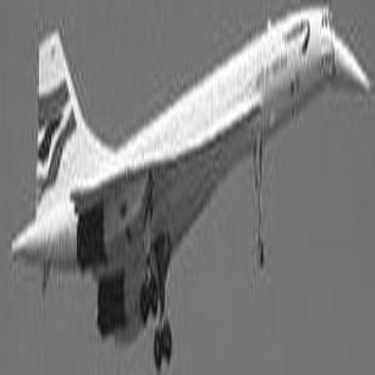airplane: (5, 1, 371, 373)
